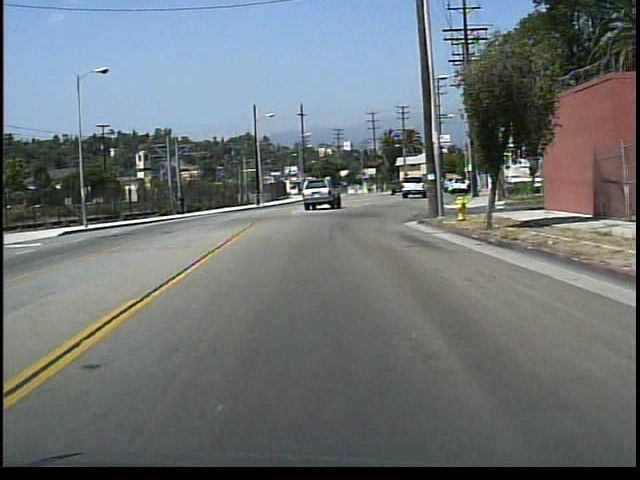person: (180, 191, 190, 216)
